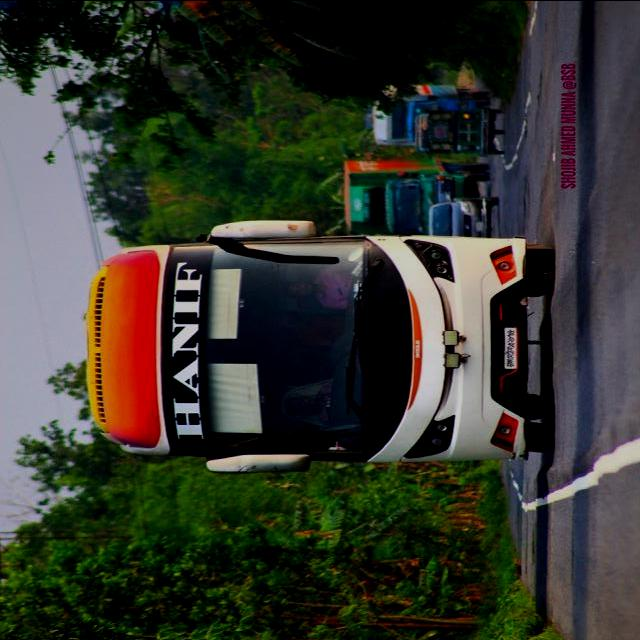bus: (86, 216, 557, 474)
